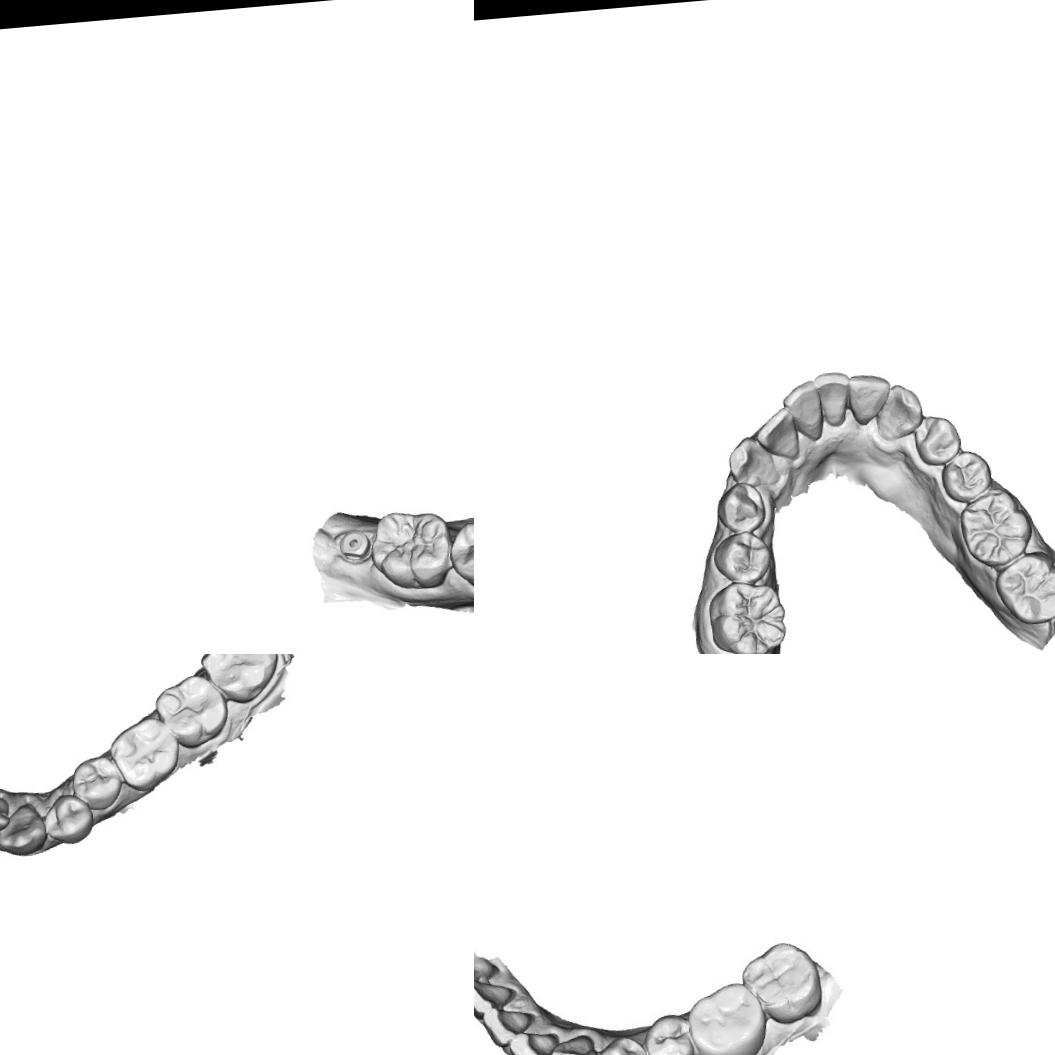canine: (725, 432, 780, 492), (872, 380, 925, 442), (0, 801, 48, 858), (544, 1033, 599, 1055)
implant: (331, 525, 378, 566)
incisor: (780, 376, 825, 443), (752, 405, 801, 462), (846, 370, 894, 428), (482, 1001, 540, 1048), (812, 368, 853, 429), (474, 974, 516, 1013), (508, 1030, 553, 1055), (0, 794, 11, 837)
molar: (365, 504, 456, 595), (736, 938, 826, 1027), (703, 576, 789, 654), (956, 482, 1034, 568), (683, 977, 767, 1055), (152, 672, 230, 750), (990, 546, 1055, 628), (196, 654, 281, 707)
premolar: (106, 714, 183, 793), (710, 527, 774, 587), (938, 448, 994, 505), (69, 754, 124, 812), (713, 480, 767, 536), (42, 790, 95, 846), (910, 413, 962, 467), (640, 1008, 699, 1055), (447, 516, 474, 592), (592, 1035, 649, 1055)
